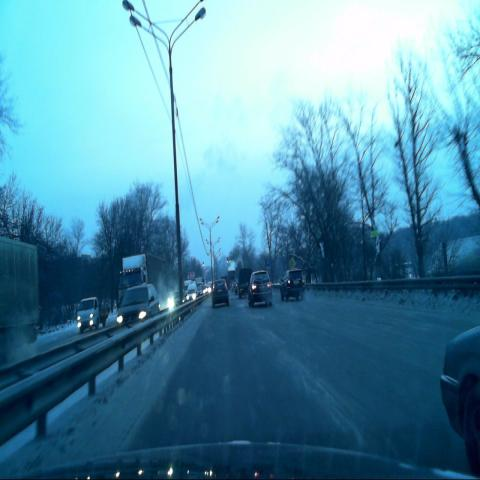2_1: (289, 257, 296, 269)
